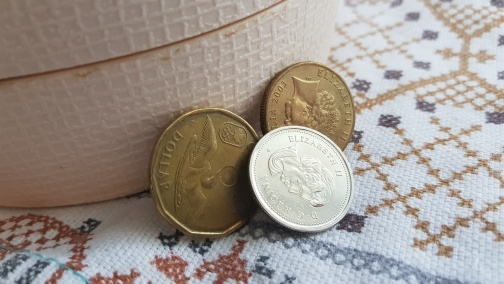coin: (150, 107, 260, 237), (248, 126, 354, 232), (263, 61, 356, 158)
